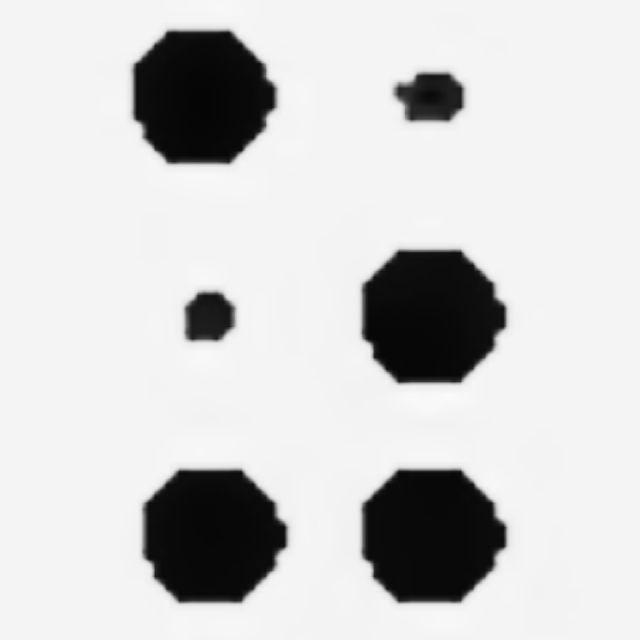z: (136, 31, 505, 603)
